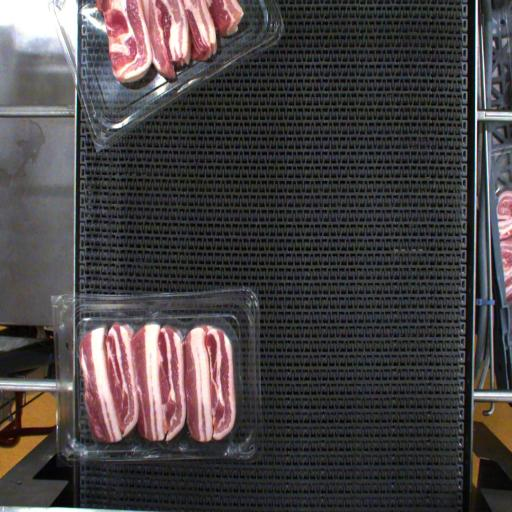unsealed: (67, 309, 245, 364)
